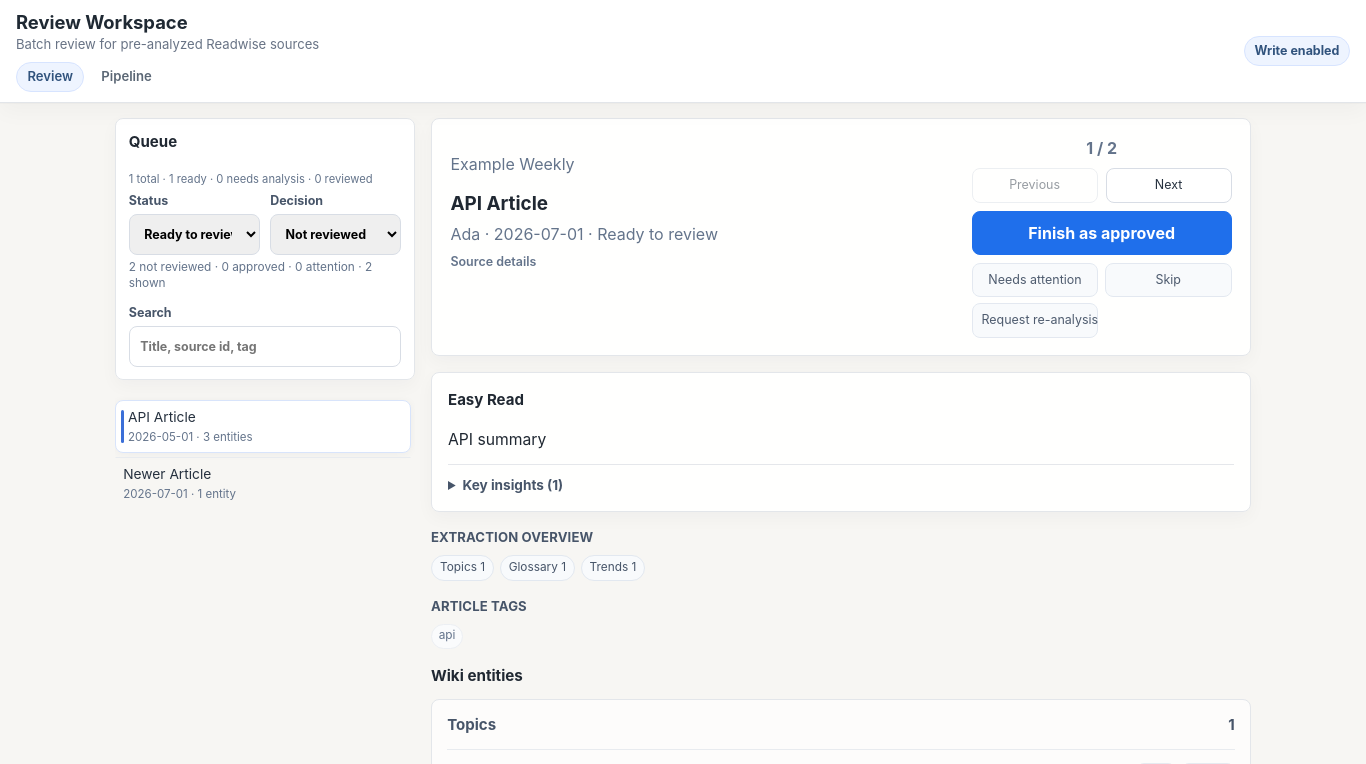
Test: App › writes secondary decisions and reloads source and queue state
Expected: the text "API summary" is shown, [448, 430, 546, 449]
Step 1. Click the button "Needs attention" → (1035, 280), box [972, 263, 1098, 297]
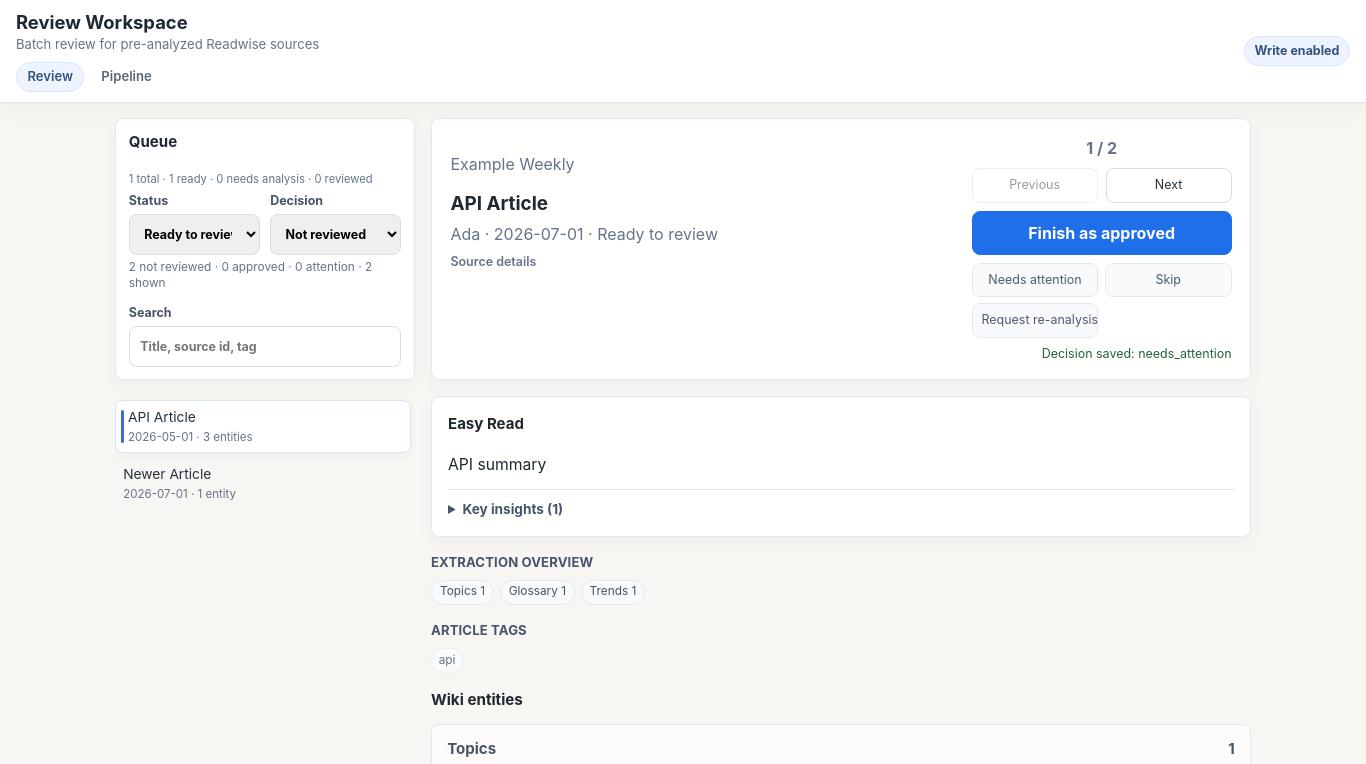
Result: the text "Decision saved: needs_attention" is shown at [1042, 346, 1232, 361]
